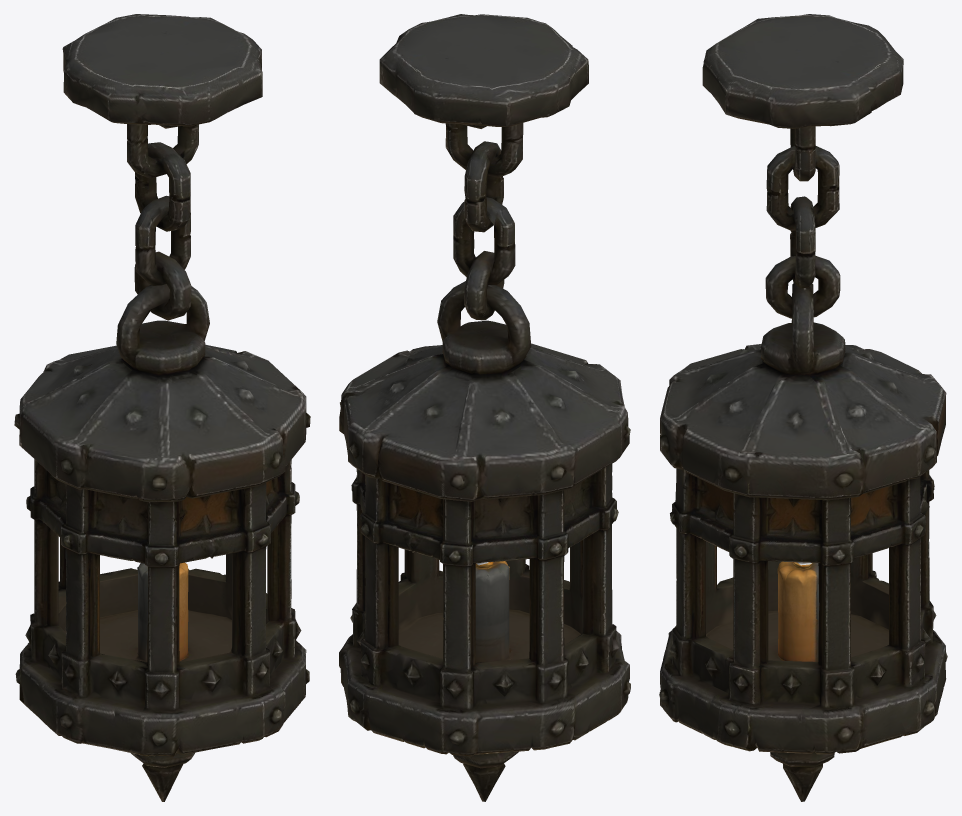
Rendered from Lantern_hanging.fbx.
3 views of the same model, side by side, from view 1: azimuth 30°, elevation 25°; view 2: azimuth 150°, elevation 25°; view 3: azimuth 270°, elevation 25° (orthographic).
Parts seen in each view (by area): view 1: Lantern; view 2: Lantern; view 3: Lantern.
Part boxes in pixels (left/top/right/bottom): Lantern: left=14, top=14, right=310, bottom=801; Lantern: left=339, top=14, right=630, bottom=801; Lantern: left=659, top=14, right=947, bottom=801.
Bounding box in the file's own units: 50.64 × 147 × 51.42.
Materials: 2 (1 with a texture image).
